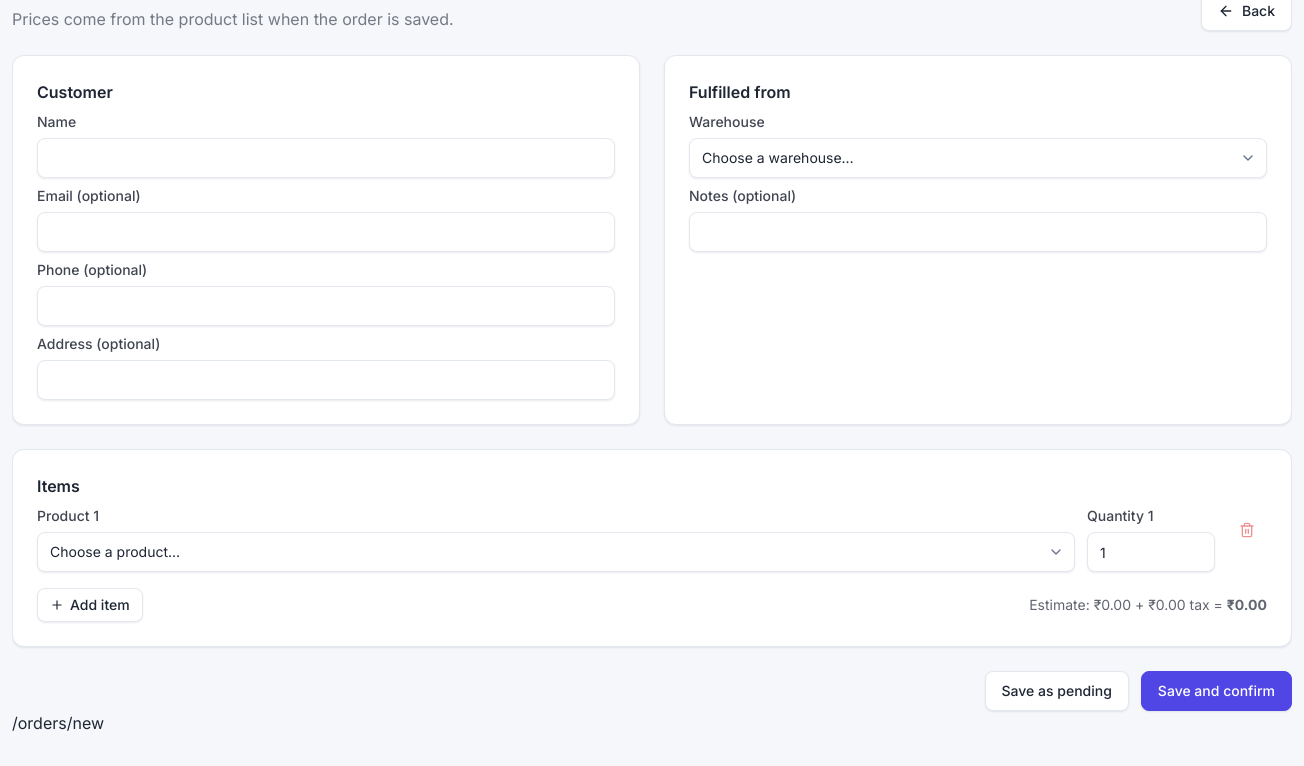
Test: OrderFormPage — new order › shows the server's message and stays on the form when saving fails
Type "Priya Sharma" into the field labelled "Name".
click(326, 158); type("Priya Sharma")  # box x1=37 y1=138 x2=615 y2=178
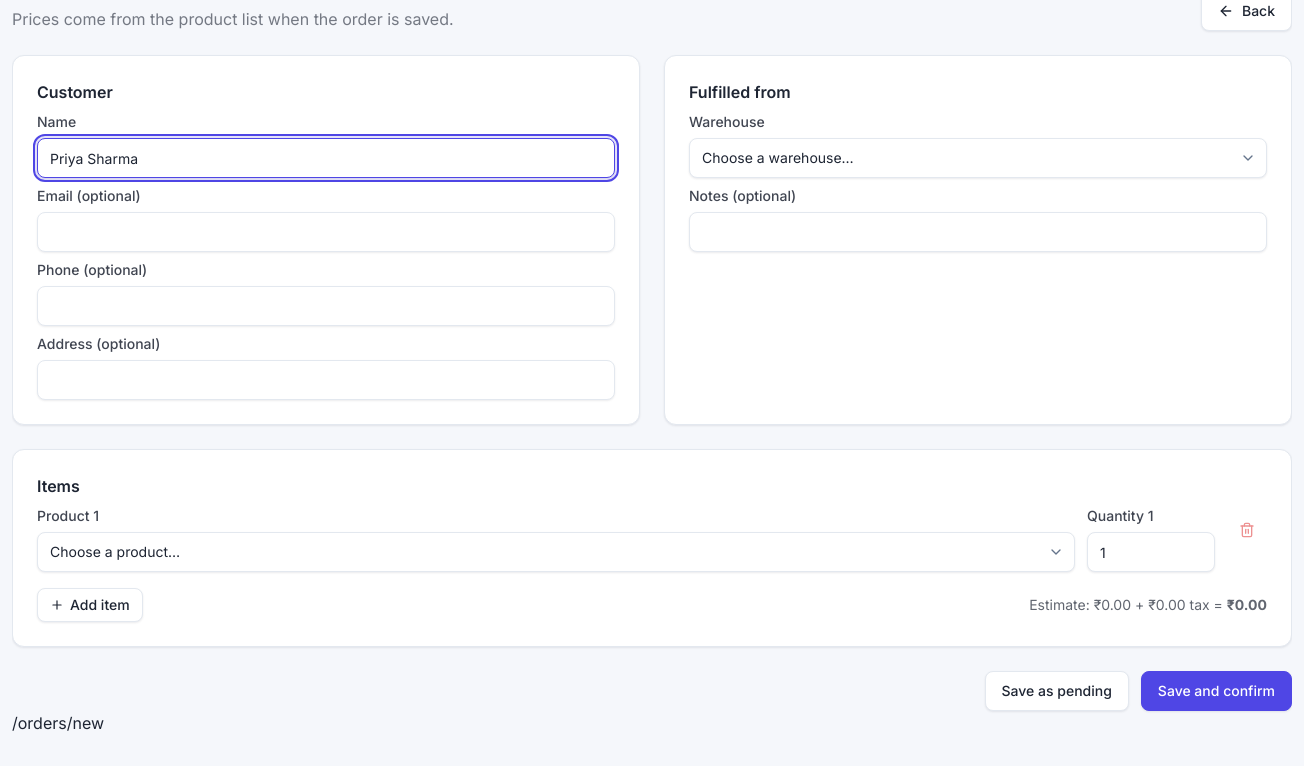
Select "Delhi Central (DEL-01)" in the dropdown labelled "Warehouse" at (978, 158), box x1=689 y1=138 x2=1267 y2=178
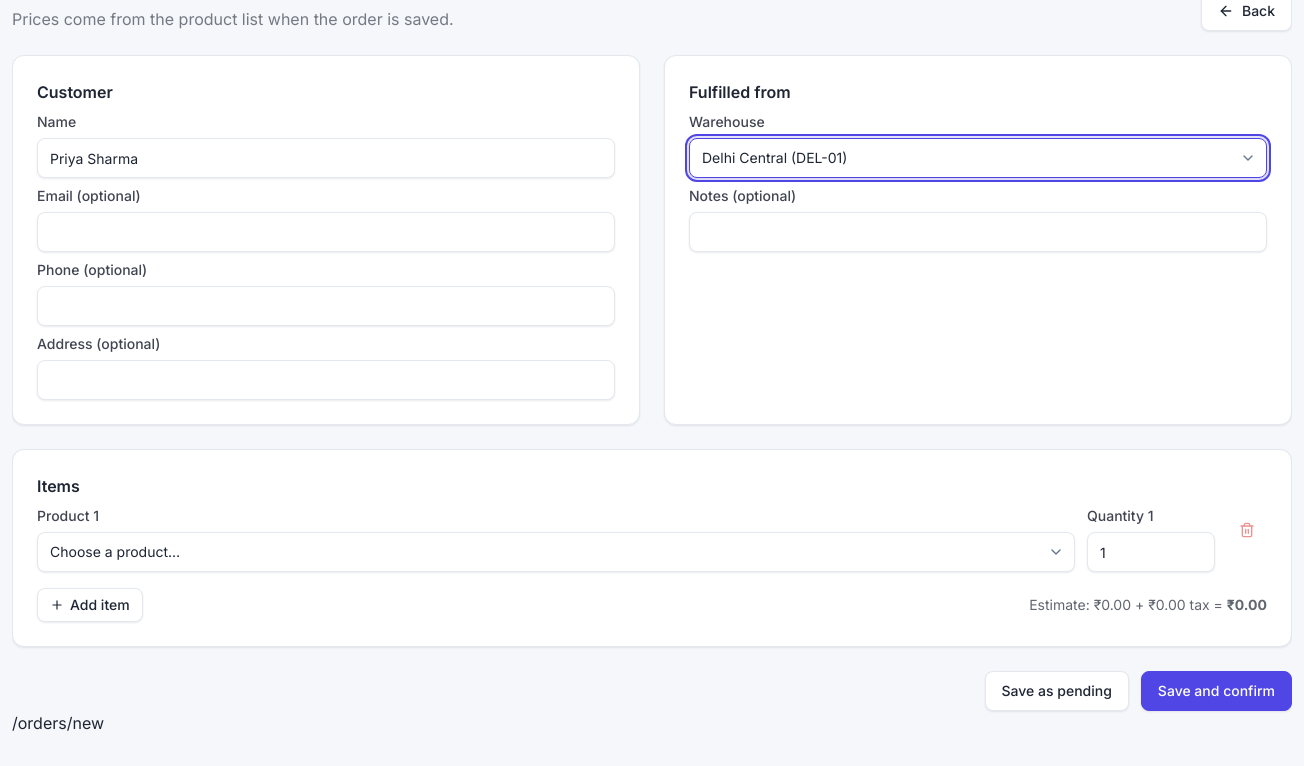
Select "Laptop Pro (LAP-001) — ₹1,000.00" in the dropdown labelled "Product 1" at (556, 552), box x1=37 y1=532 x2=1075 y2=572
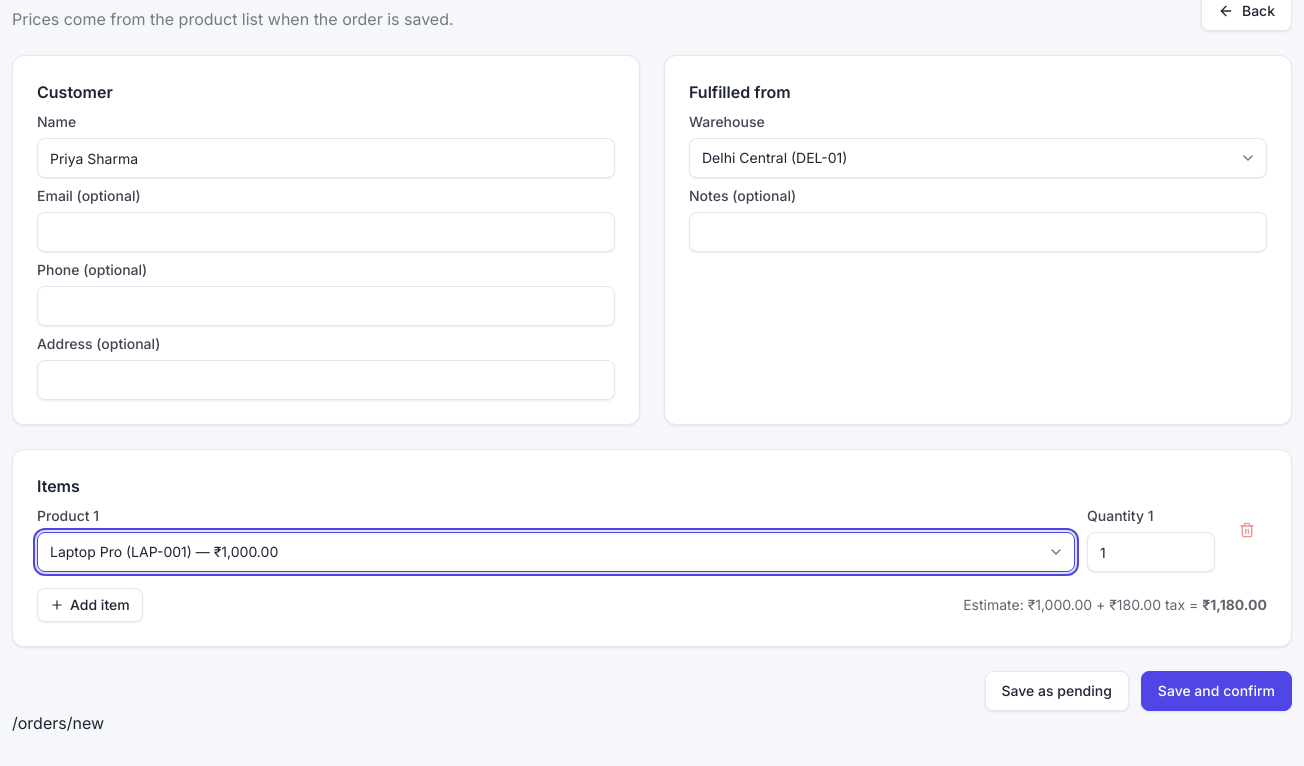
Click the button "Save and confirm".
click(1216, 691)  # box x1=1141 y1=671 x2=1292 y2=711
(page scrolled)
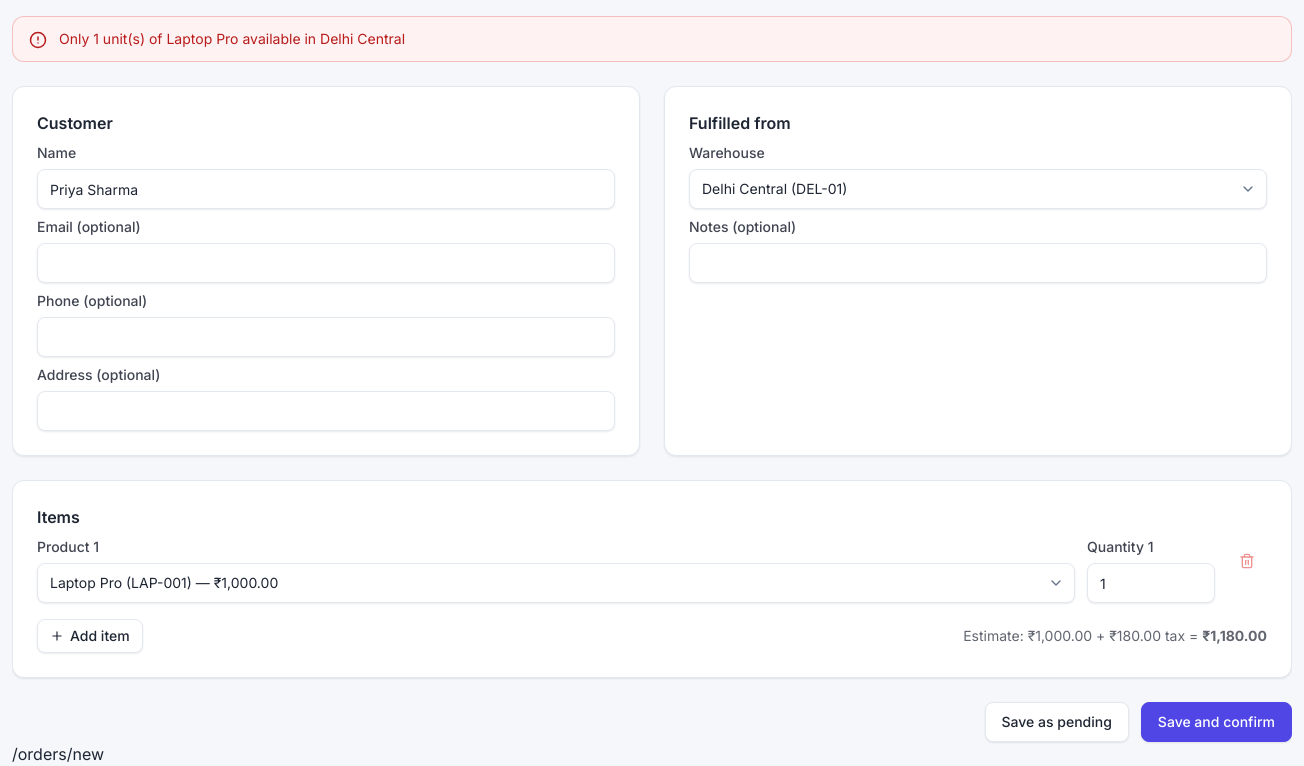
Expected: the text with test id "location" reads "/orders/new", x1=12 y1=744 x2=104 y2=764
Expected: the text "Only 1 unit(s) of Laptop Pro available in Delhi Central" is shown, x1=59 y1=30 x2=405 y2=47
